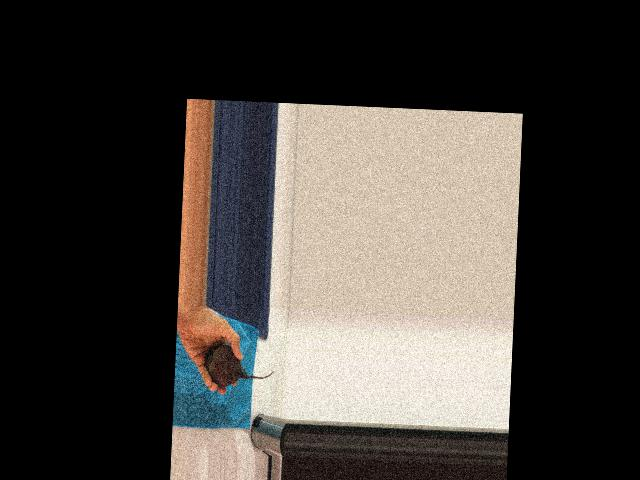beet: (202, 344, 274, 389)
